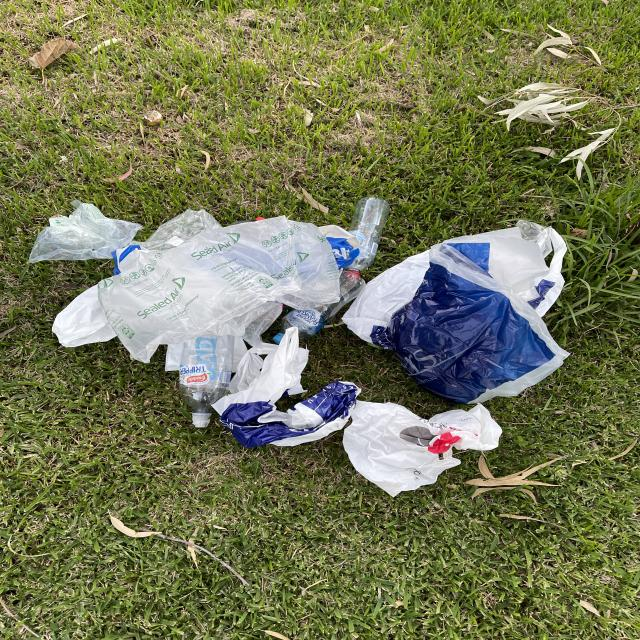bag: (338, 218, 572, 403), (336, 397, 508, 498)
bottle: (267, 274, 381, 343), (169, 319, 233, 430), (332, 194, 396, 286)
wrappers: (32, 194, 353, 362)
